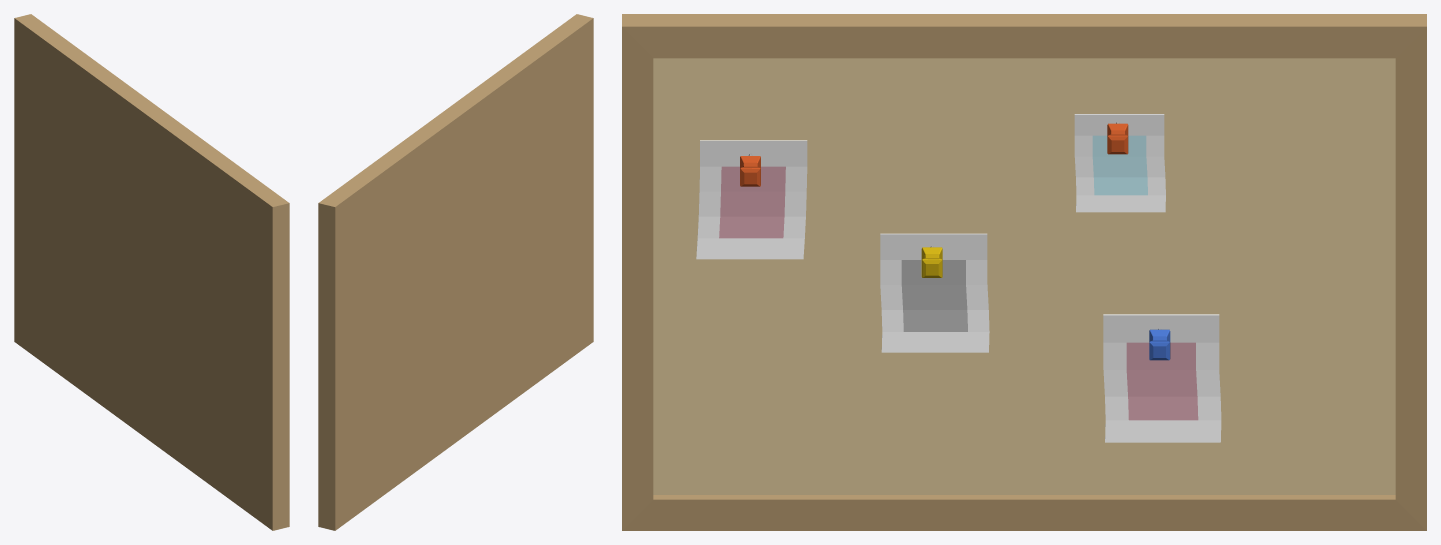
Rendered from board.glb.
3 views of the same model, side by side, from view 1: azimuth 30°, elevation 25°; view 2: azimuth 150°, elevation 25°; view 3: azimuth 270°, elevation 25° (orthographic). The views are drawn at different scales.
Visible parts, largest first — view 1: Board; view 2: Board; view 3: Board.
Boxes of the visible parts, x1,y1,x2,y2 form: Board: (14,14,289,530); Board: (318,14,593,530); Board: (622,14,1426,530).
Size of the model in its own units: 0.1667 by 1.11 by 1.61.
